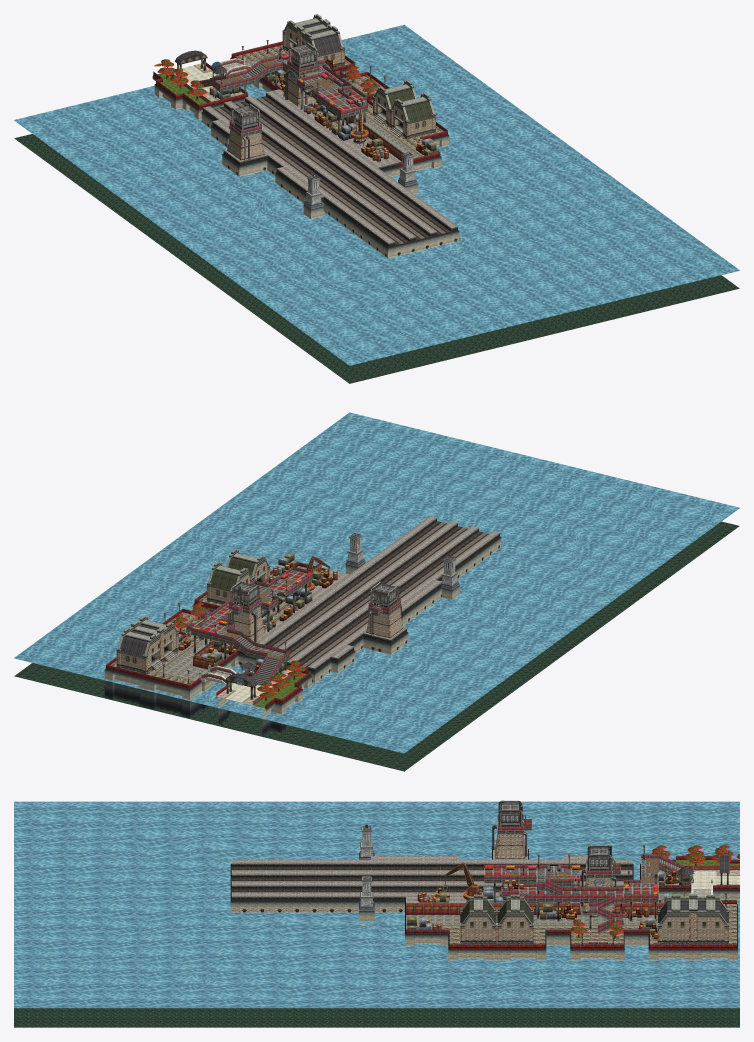
The model's file is Ruan2.obj.
3 views of the same model, one above another, from view 1: azimuth 30°, elevation 25°; view 2: azimuth 150°, elevation 25°; view 3: azimuth 270°, elevation 25° (orthographic). The views are drawn at different scales.
Visible parts, largest first — view 1: Object.015; view 2: Object.015; view 3: Object.015.
Boxes of the visible parts, box(x1,y1,x2,y2) form: Object.015: box(14, 14, 739, 383); Object.015: box(14, 412, 739, 771); Object.015: box(14, 800, 739, 1027).
Bounding box in the file's own units: 112 × 23.84 × 167.
Materials: 26 (26 with a texture image).
